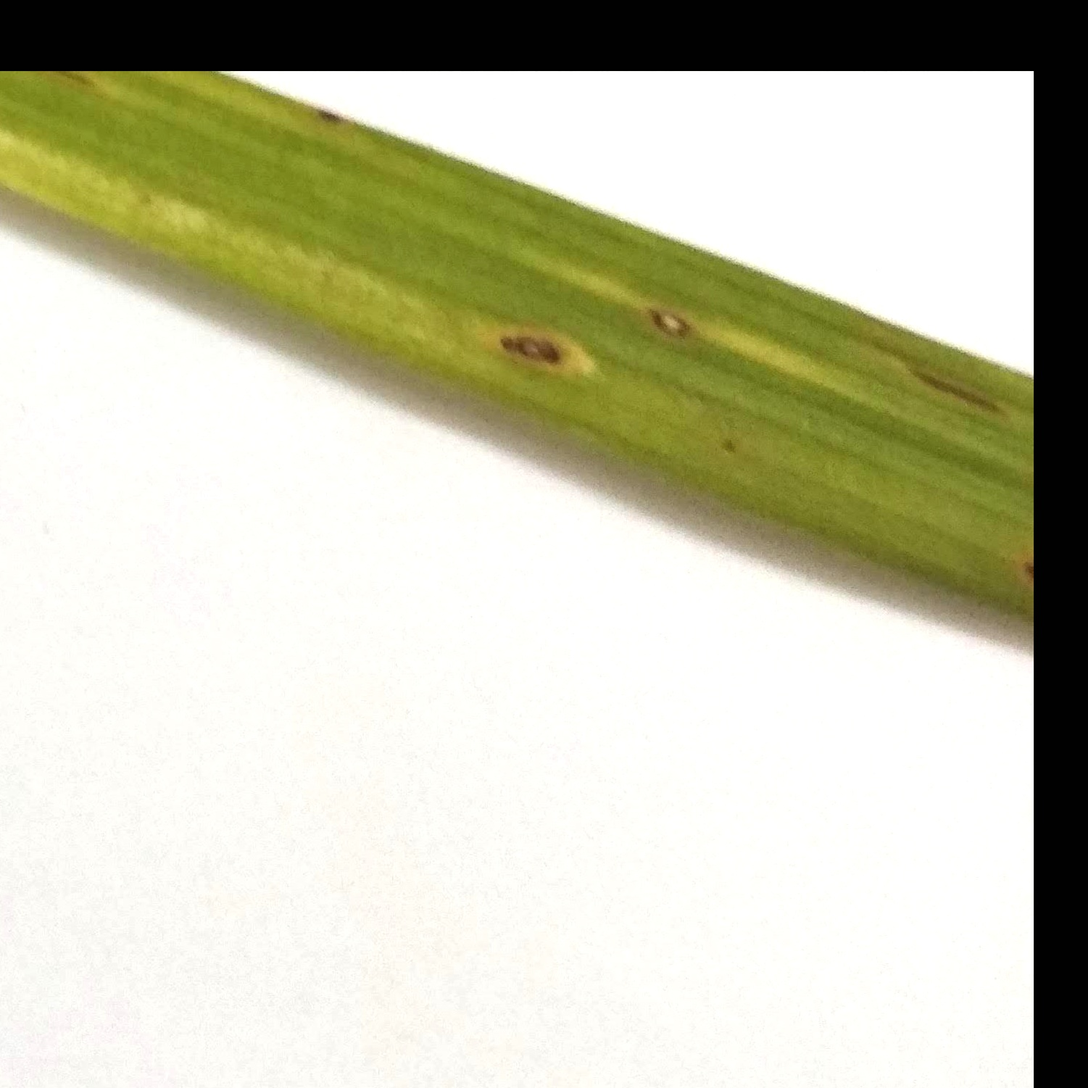Brown_Spot: (471, 311, 607, 375), (637, 290, 721, 336)
